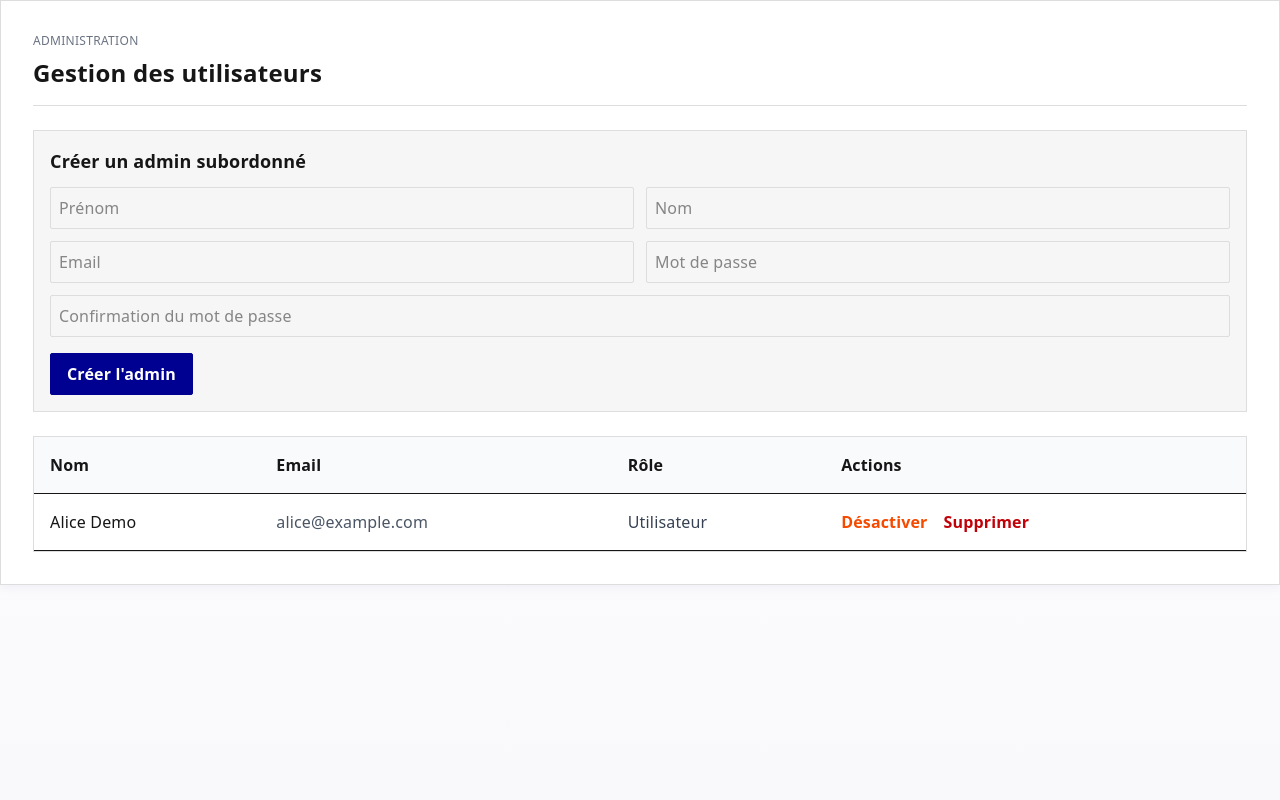
Test: UserManagement page › shows create-admin form for super admin and submits it
Expected: the heading "Créer un admin subordonné" is shown, [50, 149, 306, 173]
Type "New" into the field with placeholder "Prénom". click: (342, 208)
box: [50, 187, 634, 229]
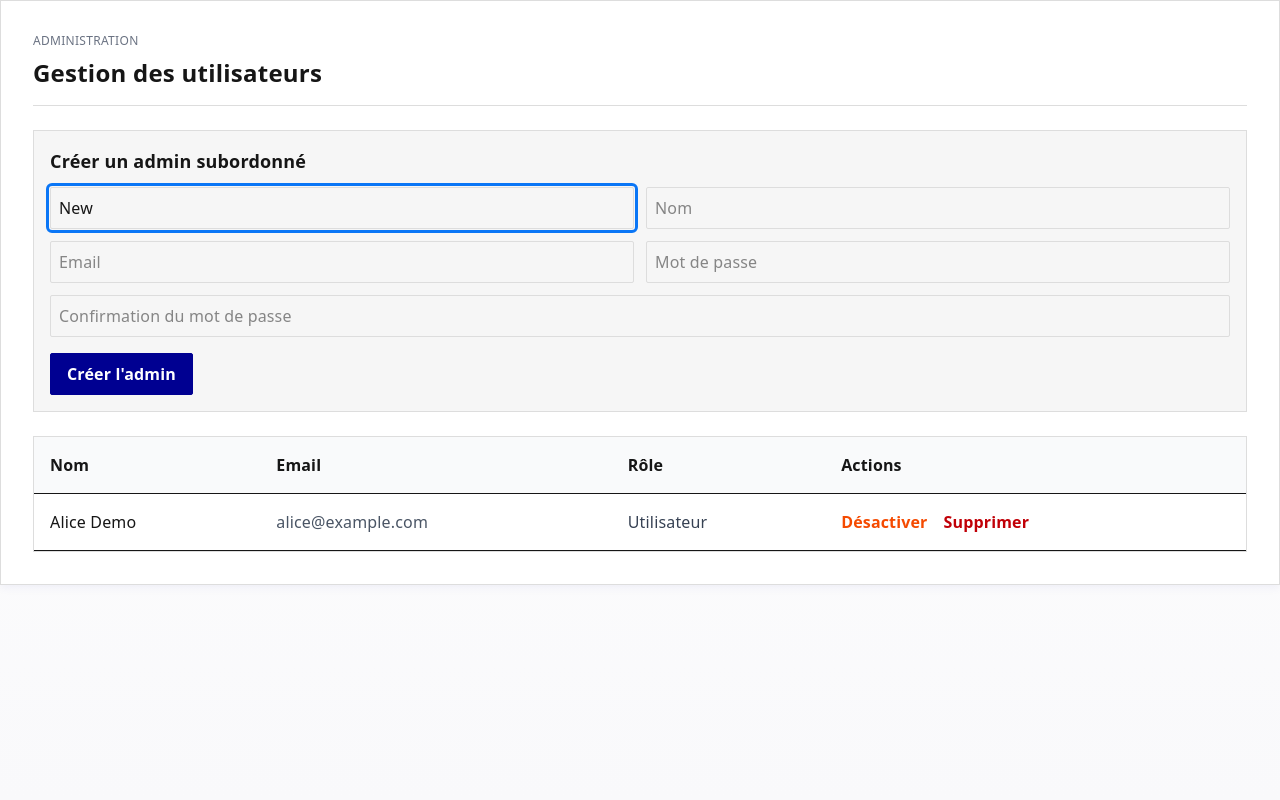
Type "Admin" into the field with placeholder "Nom". click: (938, 208)
box: [646, 187, 1230, 229]
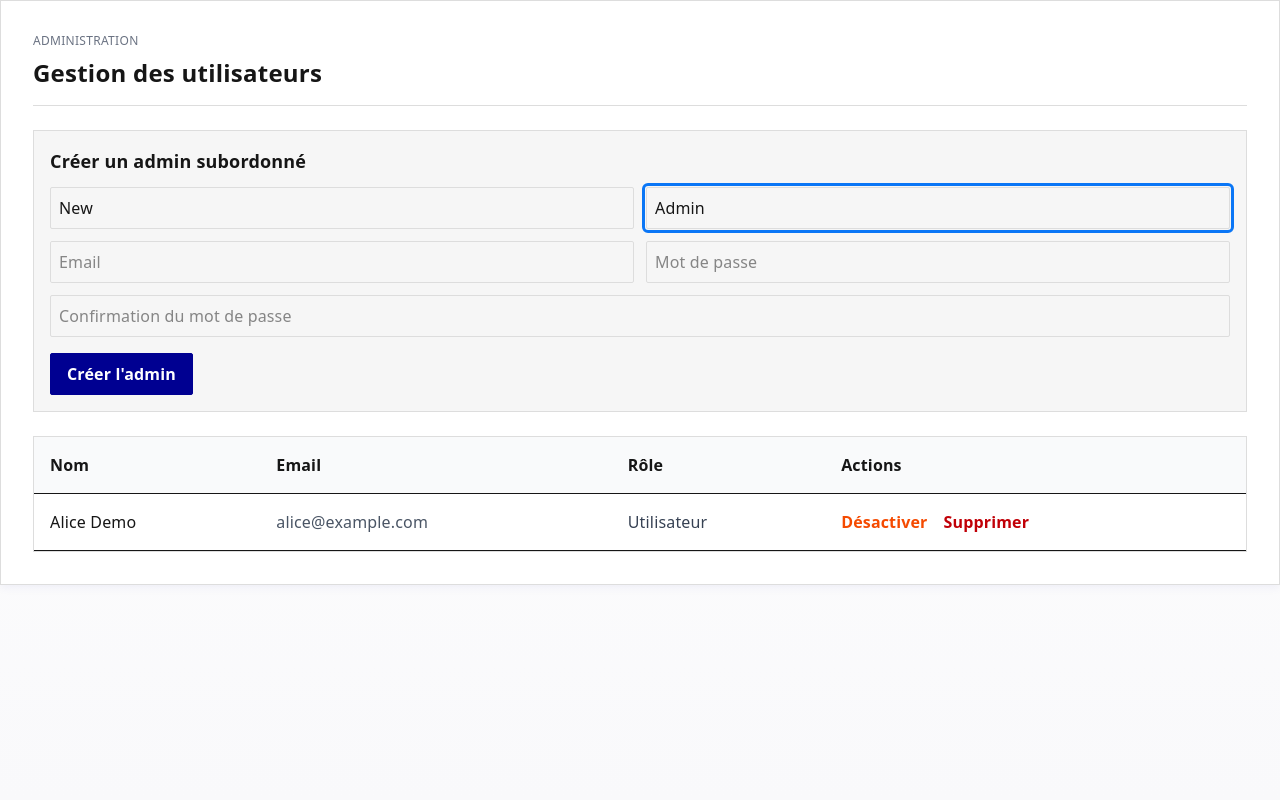
Type "newadmin@example.com" into the field with placeholder "Email". click: (342, 262)
box: [50, 241, 634, 283]
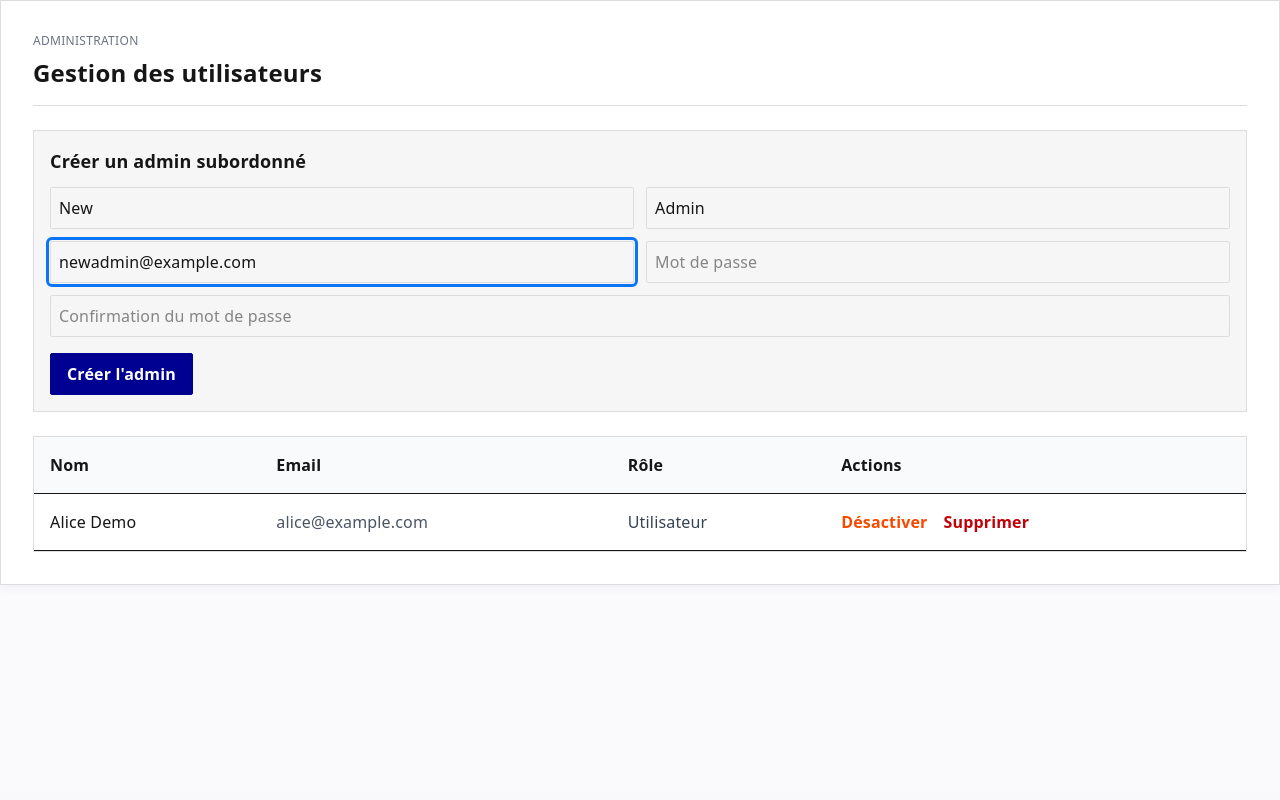
Type "password123" into the password field with placeholder "Mot de passe". click: (938, 262)
box: [646, 241, 1230, 283]
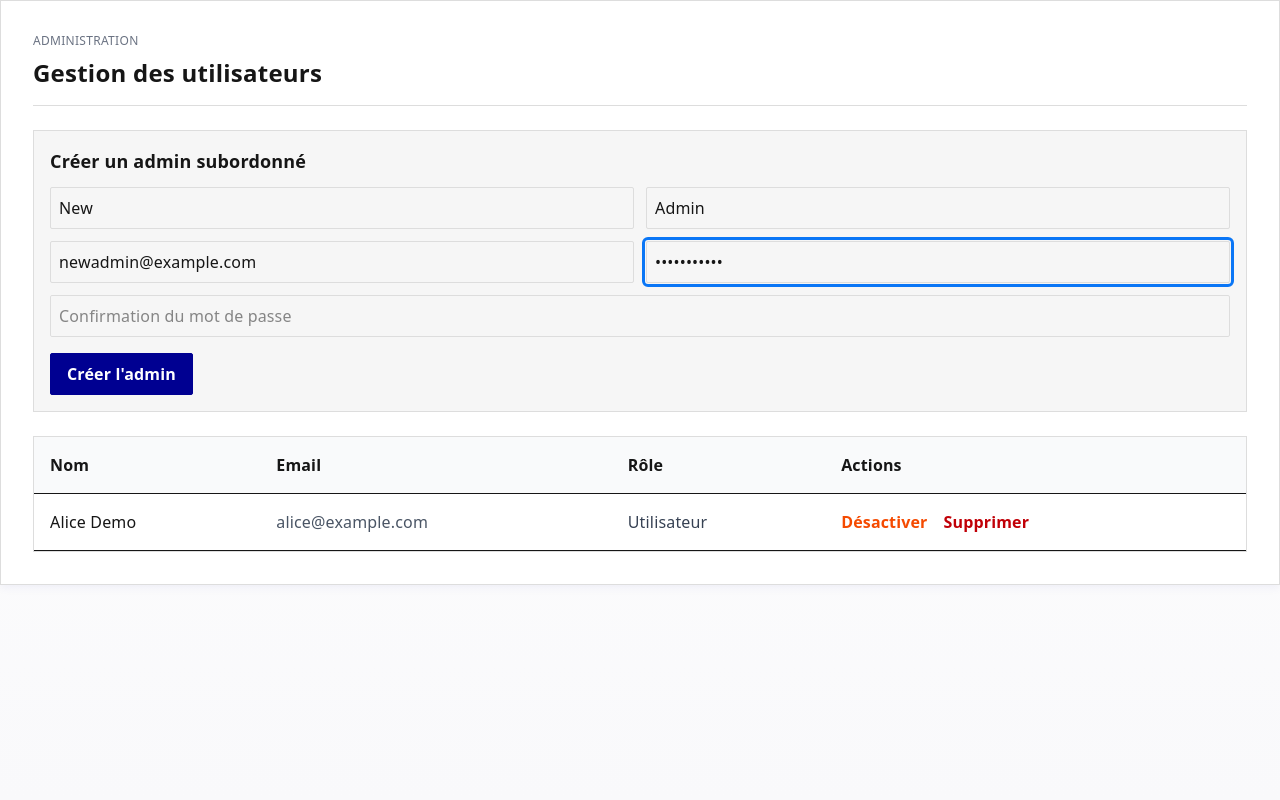
Type "password123" into the password field with placeholder "Confirmation du mot de passe". click: (640, 316)
box: [50, 295, 1230, 337]
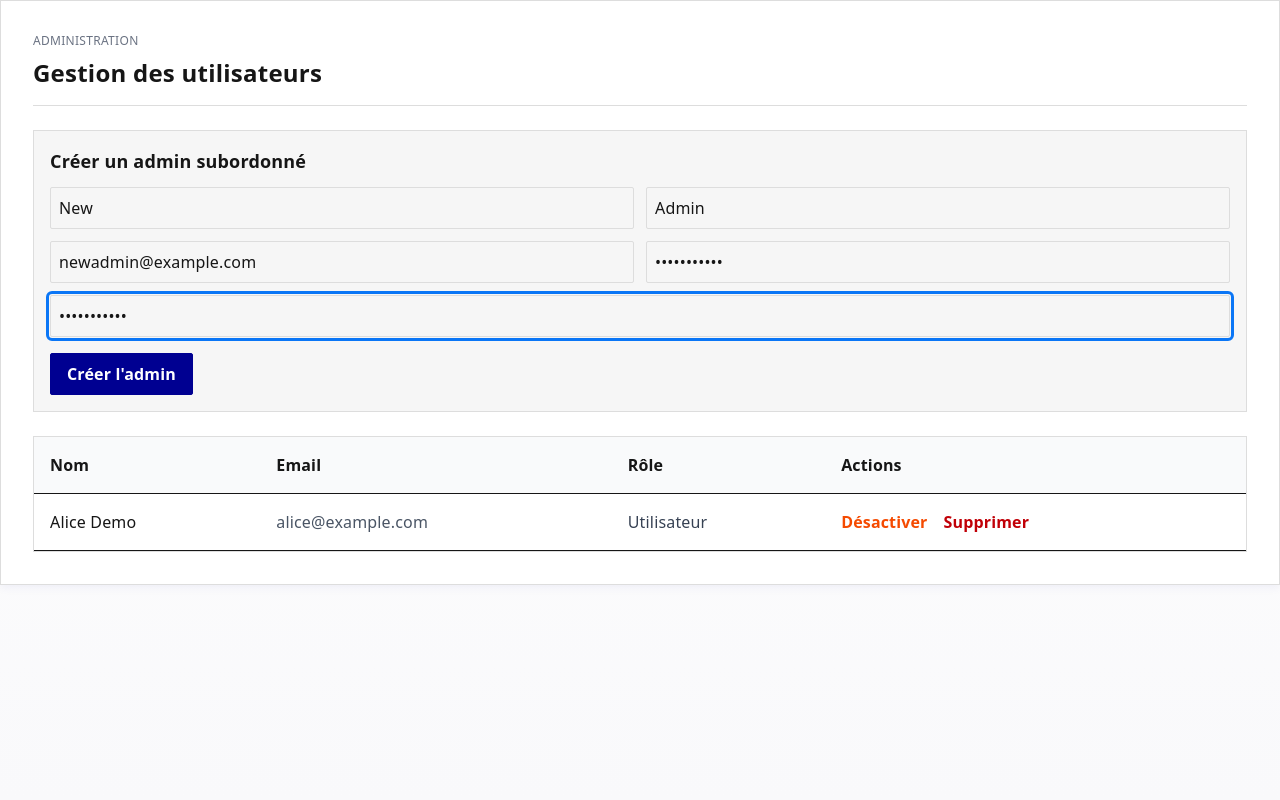
Click the button "Créer l'admin". click: (122, 374)
box: [50, 353, 193, 395]
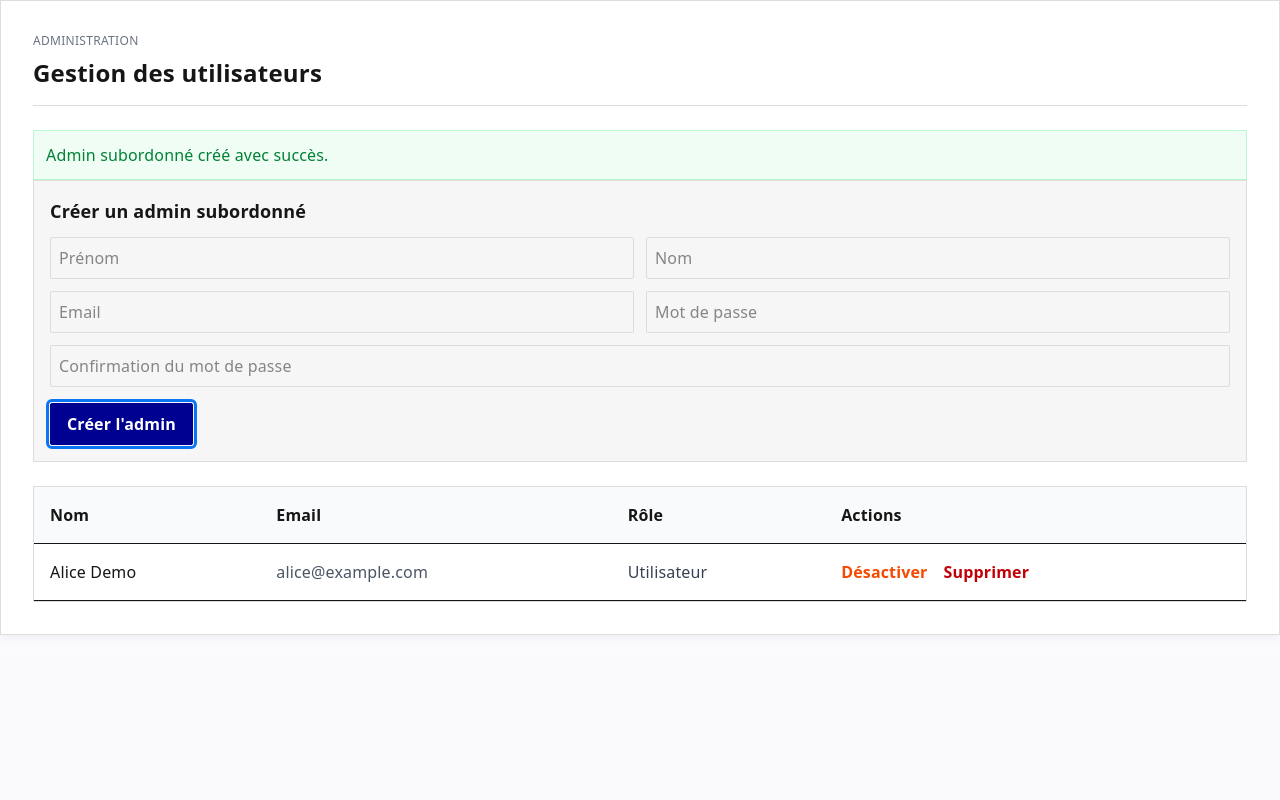
Now the text "Admin subordonné créé avec succès." is shown, box [33, 130, 1247, 180]
